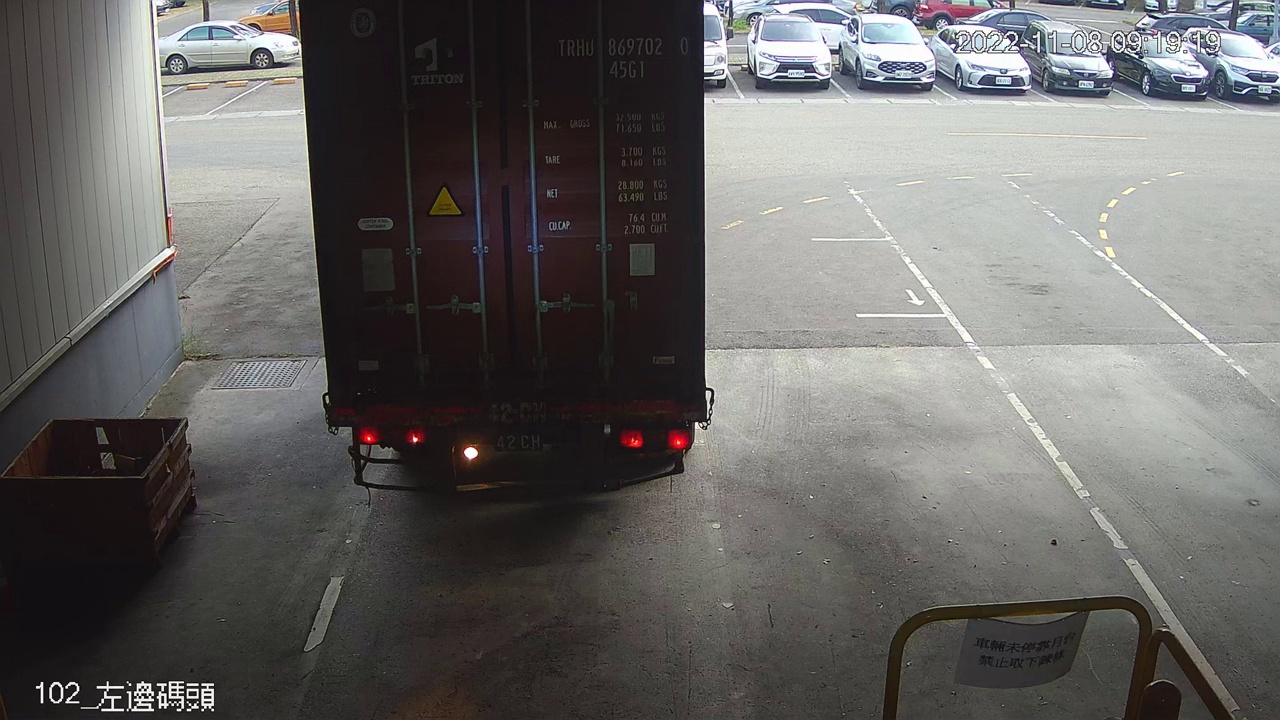container: (550, 30, 697, 88)
